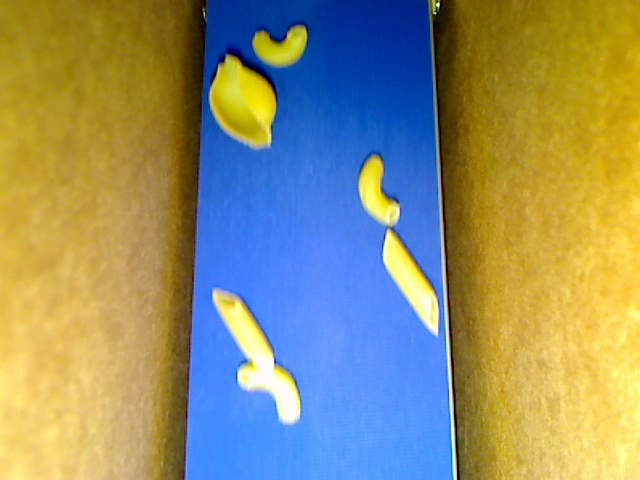elbow: (236, 362, 300, 424), (357, 154, 400, 226), (253, 26, 307, 69)
penne: (381, 228, 439, 336), (211, 287, 275, 371)
shell: (209, 54, 276, 149)
